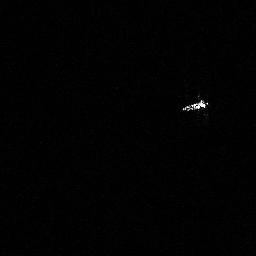ship: (179, 97, 211, 113)
